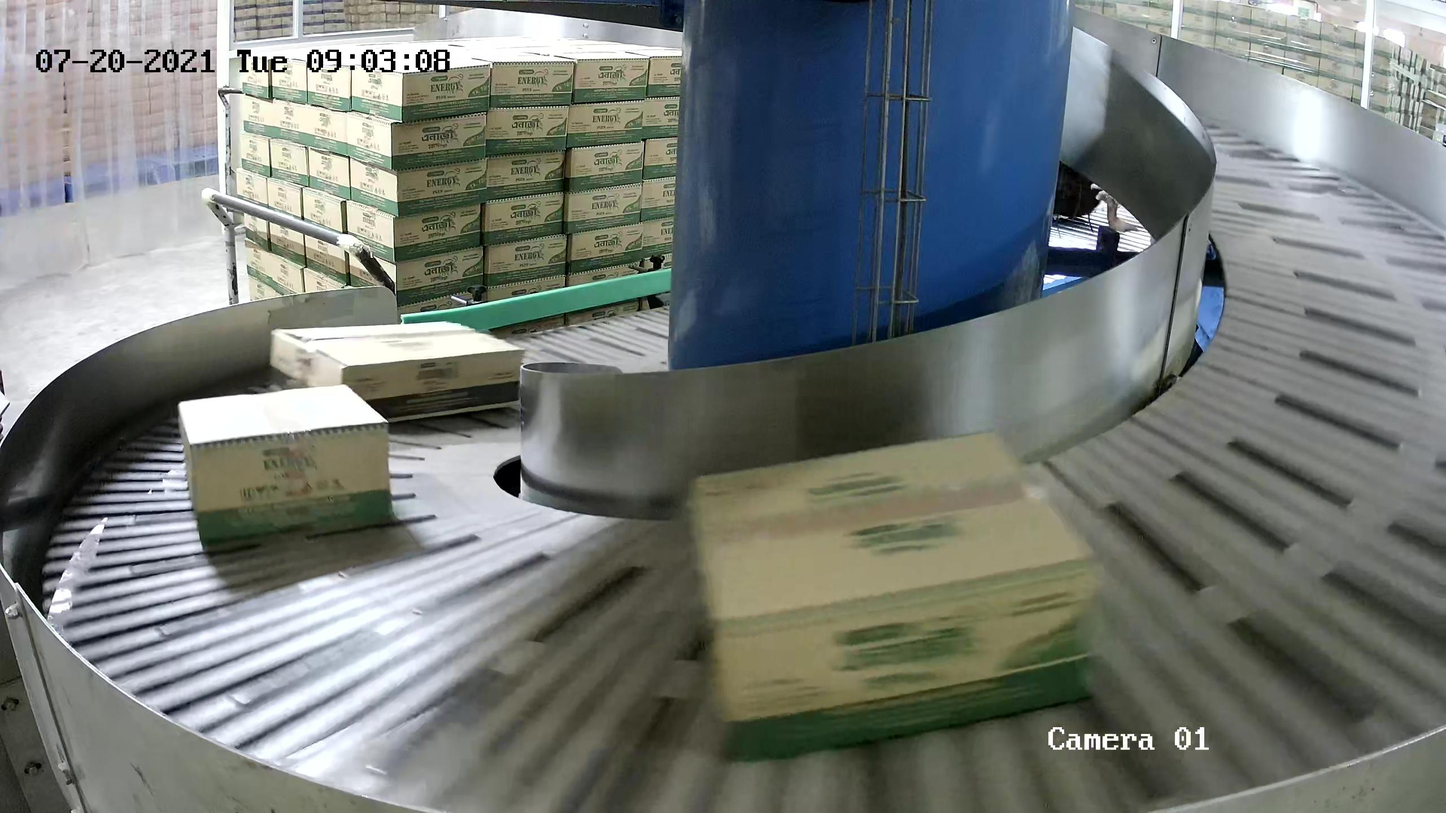Box: (686, 428, 1101, 766), (177, 383, 396, 543), (268, 319, 524, 425)
